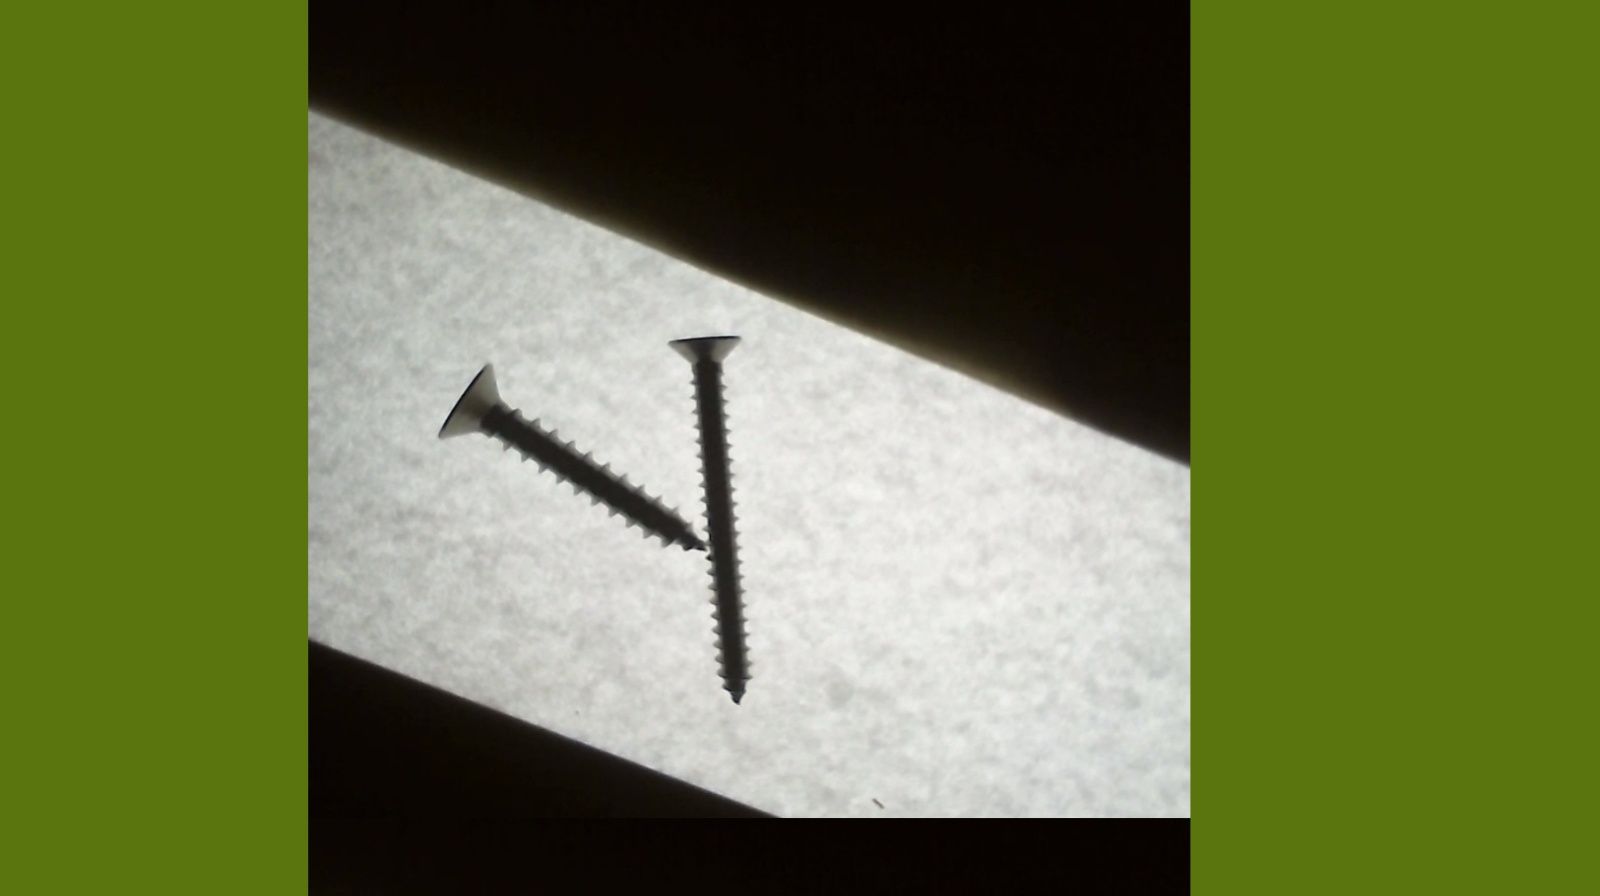S001: (432, 356, 712, 554)
S002: (654, 324, 759, 708)
